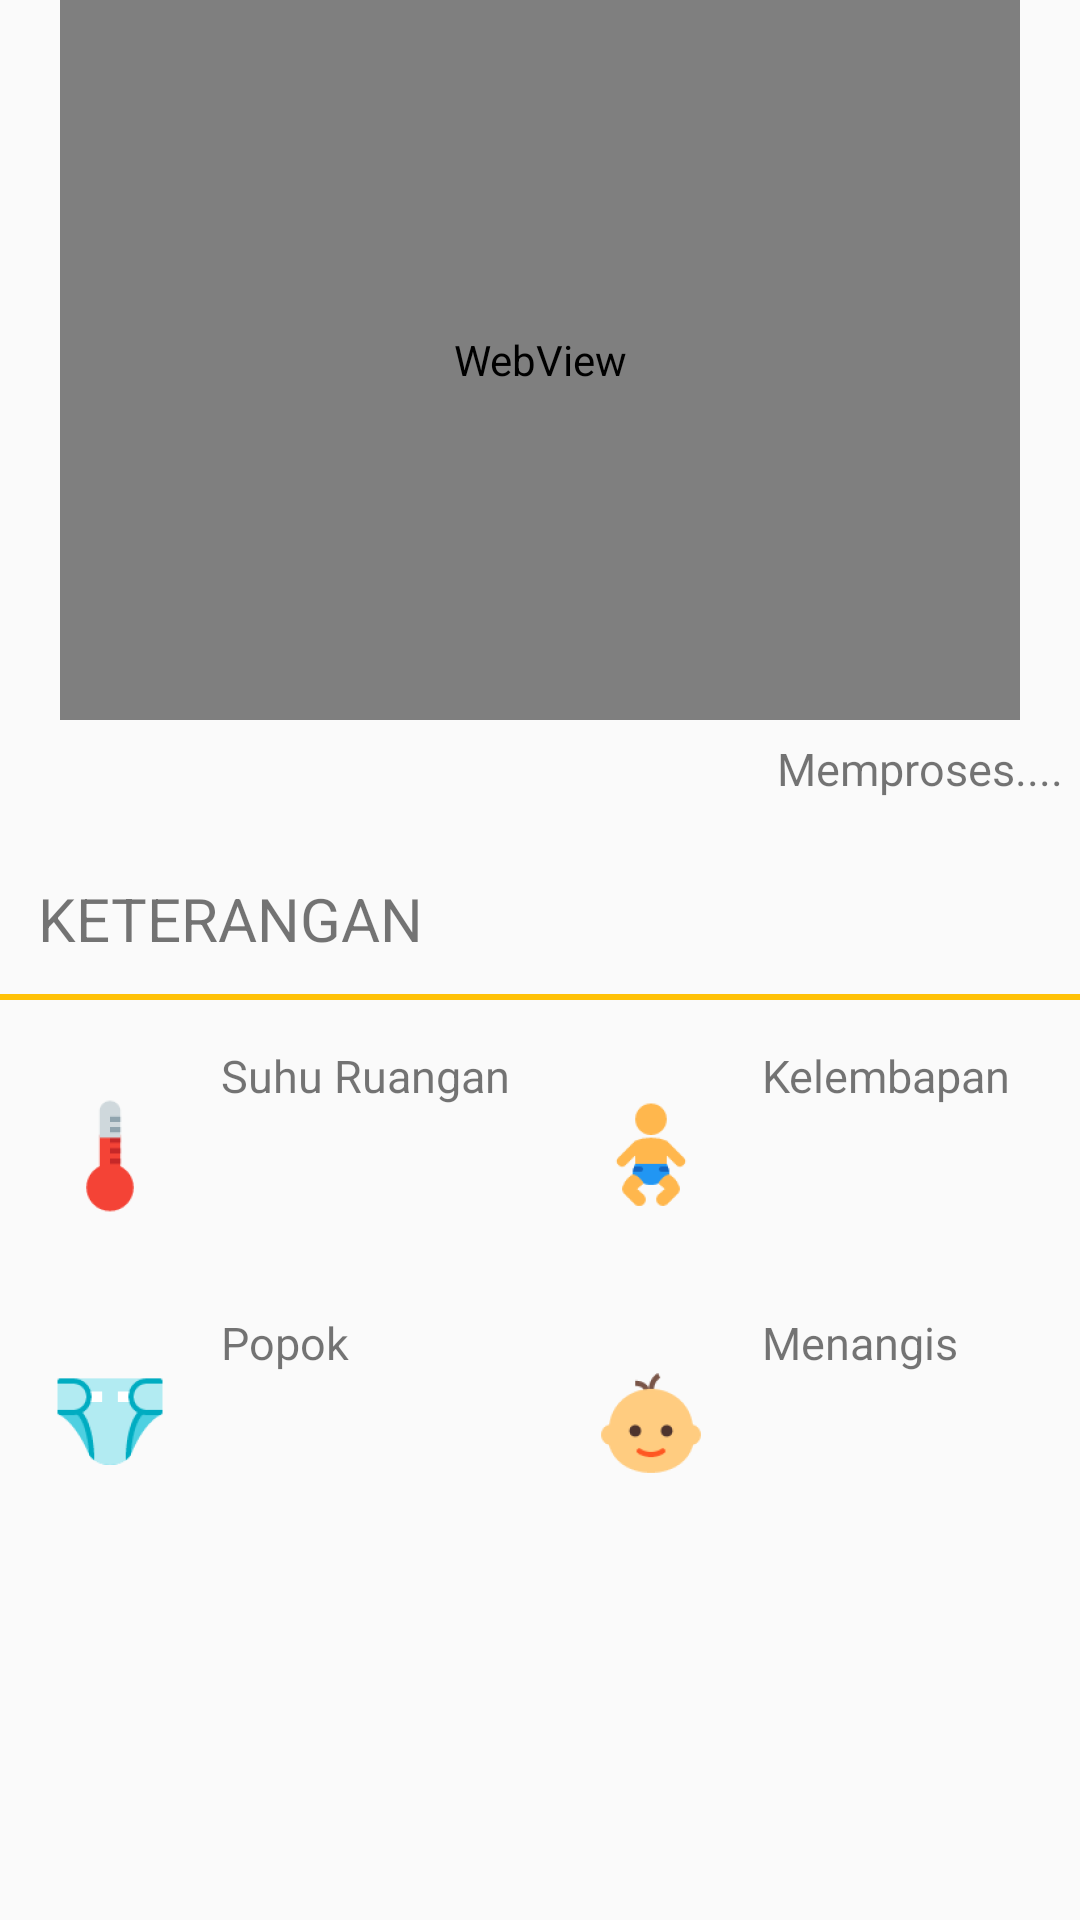

Locate icon controls on the screen. Image size 1080×1920, boxes as [x1=x1, y1=y1, x2=x2, y2=y2].
ket pipis: [x1=57, y1=1378, x2=163, y2=1465]
senyum: [x1=601, y1=1373, x2=701, y2=1473]
